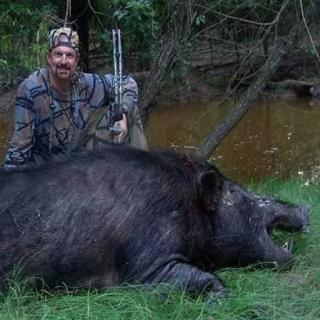Pig: (0, 148, 315, 310)
